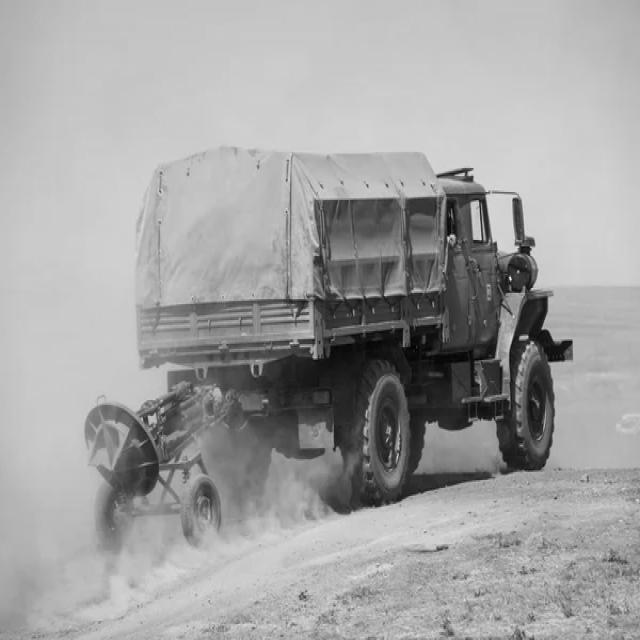Truck: (135, 147, 574, 503)
